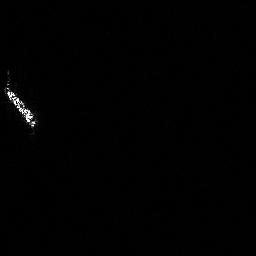ship: (2, 71, 40, 130)
